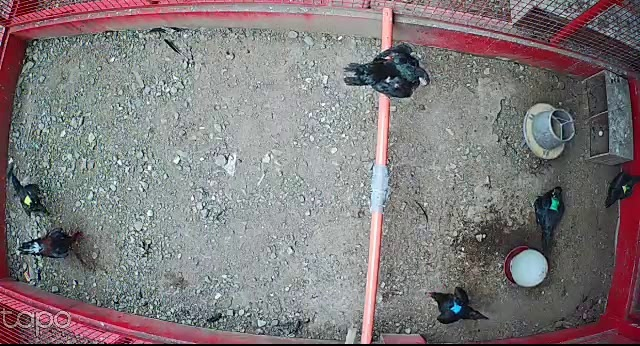Chicken: (346, 42, 434, 105), (422, 285, 491, 326), (532, 185, 569, 258), (7, 172, 56, 222), (602, 166, 640, 211)
Drinker: (502, 246, 549, 287)
Feeder: (524, 102, 575, 161)
Rooster: (17, 222, 86, 262)
Saddle_Color_Blue: (449, 301, 464, 316)
Saddle_Color_Yellow: (23, 195, 31, 206)
Saddle_Color_YellowGreen: (620, 183, 631, 193)
